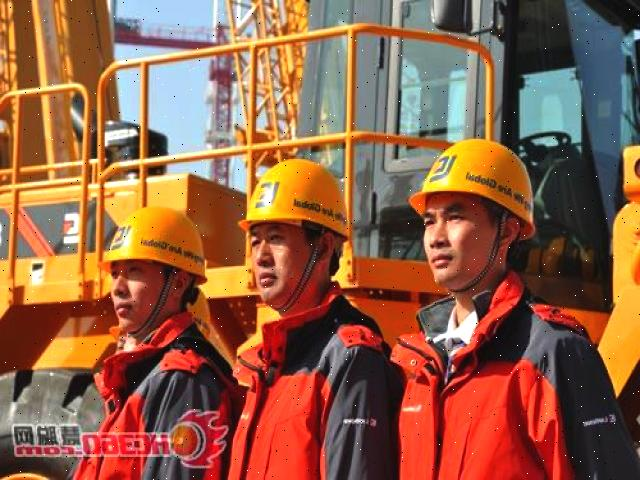Helmet: (406, 132, 541, 244), (236, 153, 358, 247), (98, 199, 215, 287)
